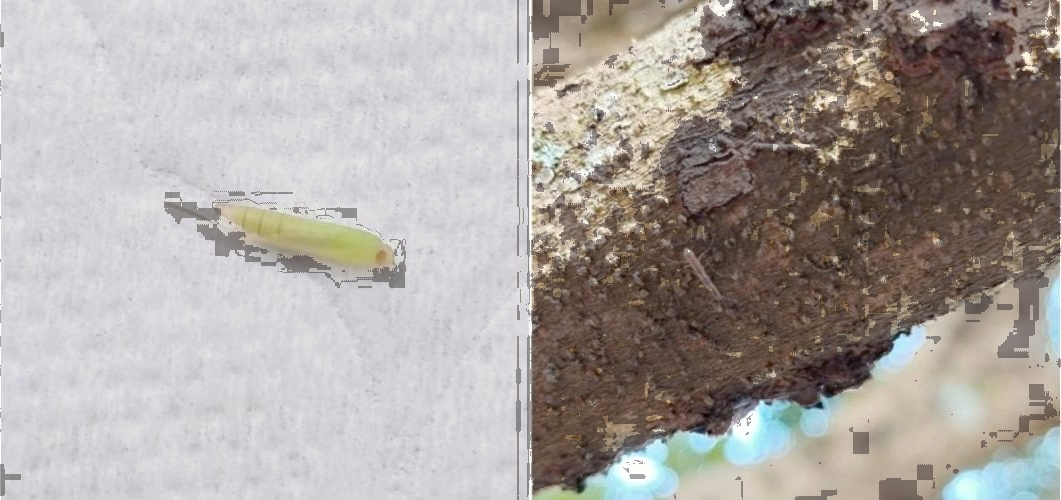Borer: (209, 190, 392, 253), (678, 240, 720, 310)
